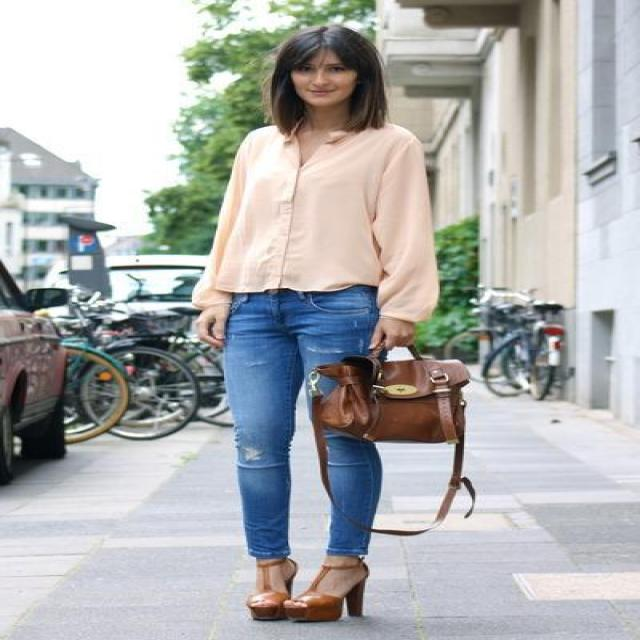bag: (304, 353, 475, 534)
pants: (195, 284, 405, 558)
shirt: (173, 125, 440, 319)
shoe: (248, 555, 368, 622)
